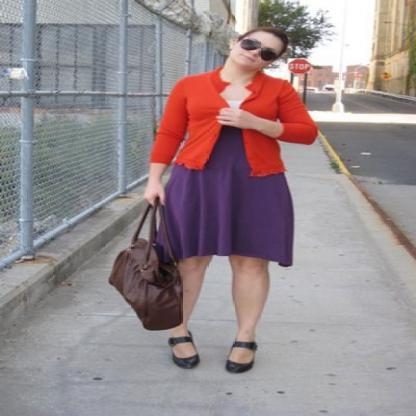bag: (108, 195, 182, 330)
jacket: (150, 67, 317, 176)
shoe: (159, 330, 257, 362)
skirt: (150, 125, 293, 266)
sunglass: (237, 28, 262, 58)
